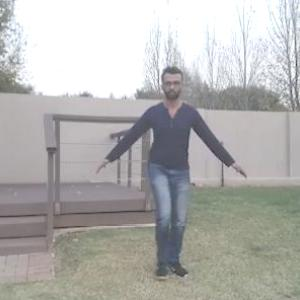land: (109, 69, 232, 282)
